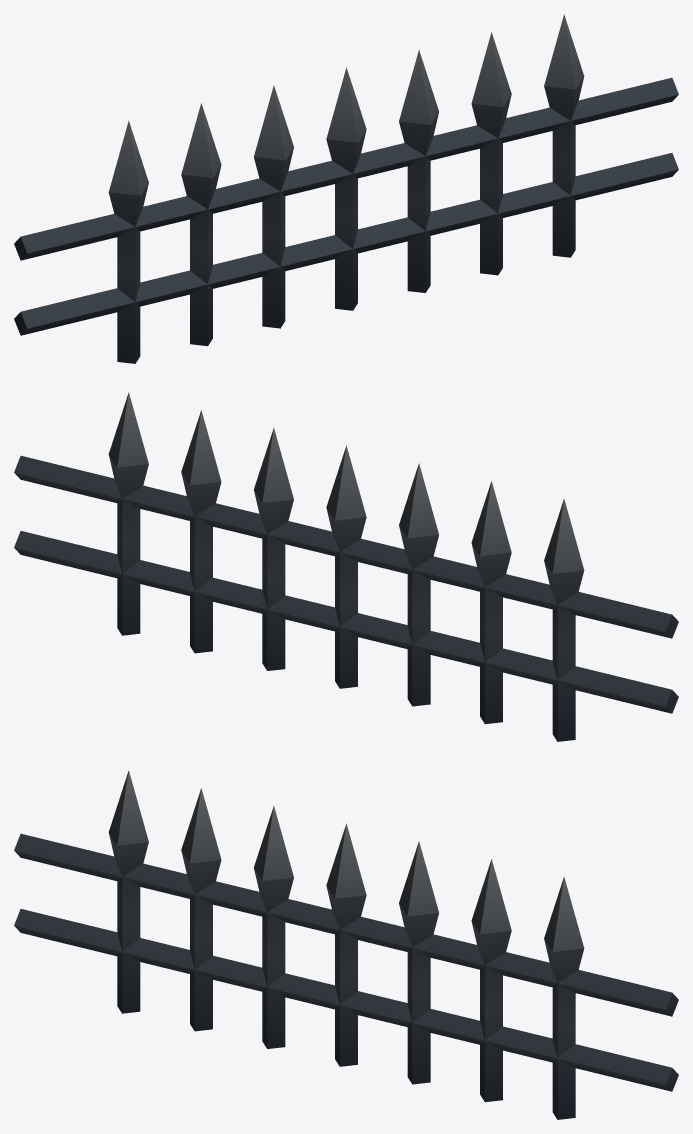
The model's file is Fence_Iron_Low_01.fbx.
3 views of the same model, one above another, from view 1: azimuth 30°, elevation 25°; view 2: azimuth 150°, elevation 25°; view 3: azimuth 330°, elevation 25° (orthographic).
Parts seen in each view (by area): view 1: Fence_Iron_Low_01; view 2: Fence_Iron_Low_01; view 3: Fence_Iron_Low_01.
Boxes of the visible parts, x1,y1,x2,y2 form: Fence_Iron_Low_01: [14, 14, 678, 363]; Fence_Iron_Low_01: [14, 392, 678, 741]; Fence_Iron_Low_01: [14, 770, 678, 1119].
Size of the model in its own units: 400 by 140 by 24.74.
